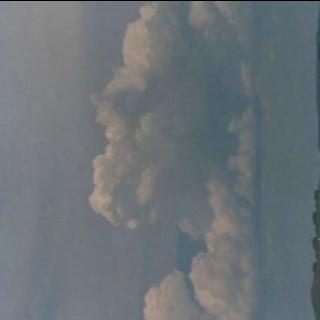Cirrostratus: (86, 0, 270, 320)
